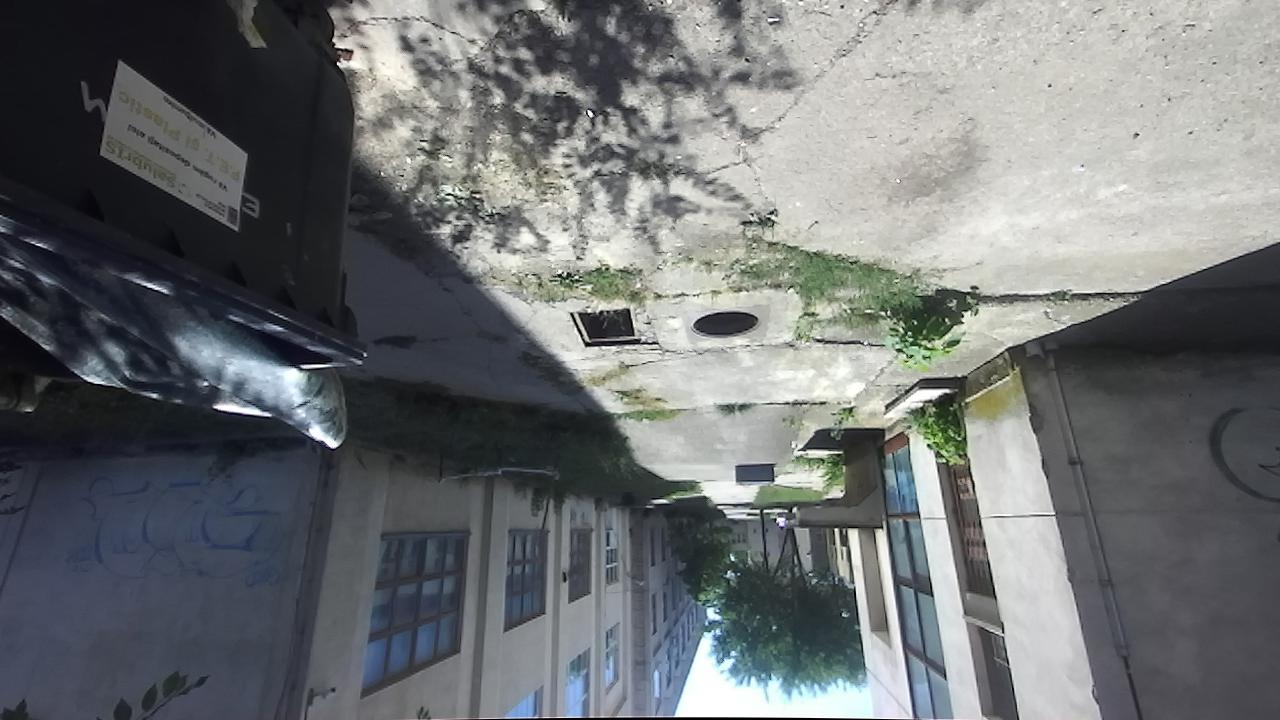drain: (564, 308, 641, 350), (686, 307, 766, 344)
